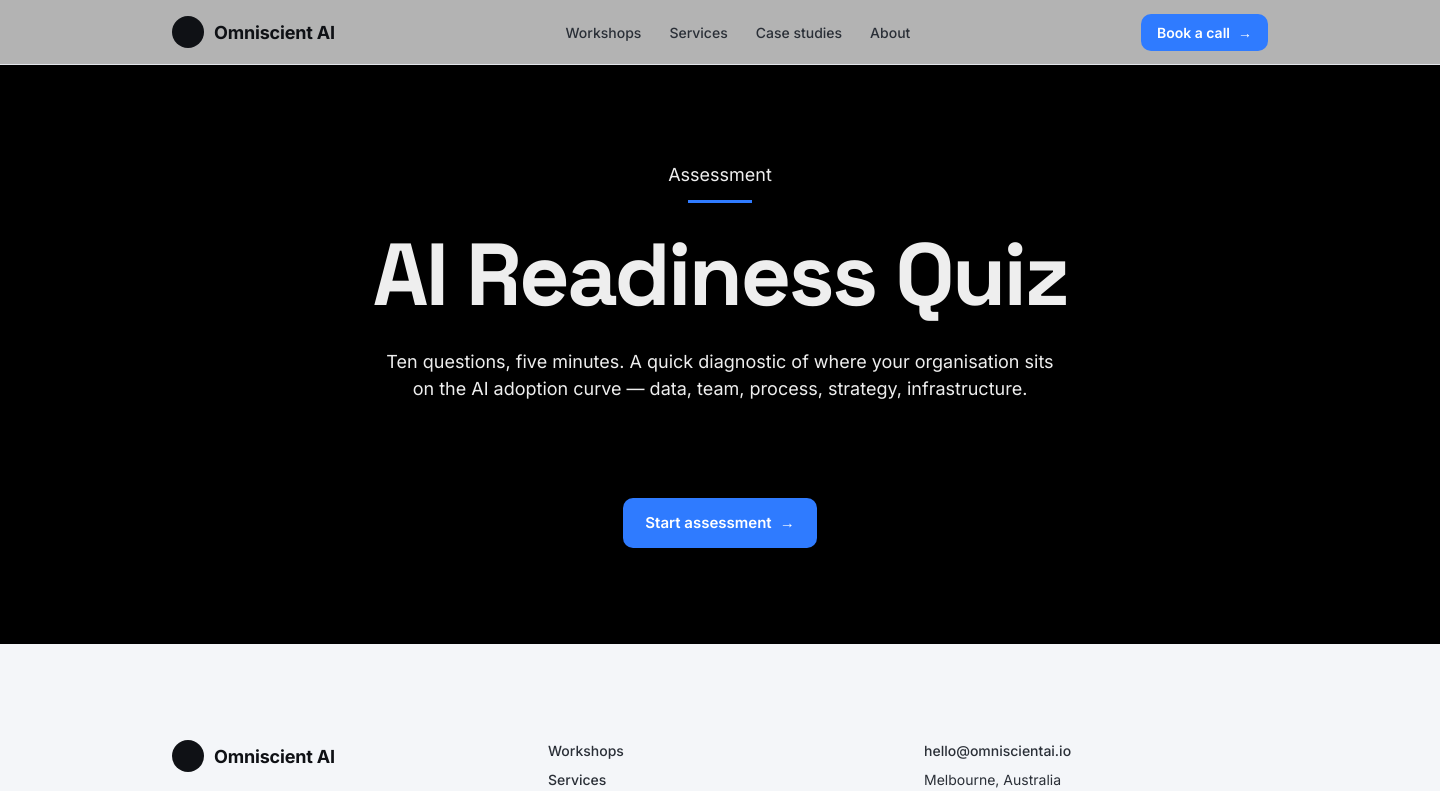
it: AIReadinessQuiz page › Back on question > 1 returns to the previous question
Click the button "Start assessment →". click: (720, 523)
box: [623,498,817,548]
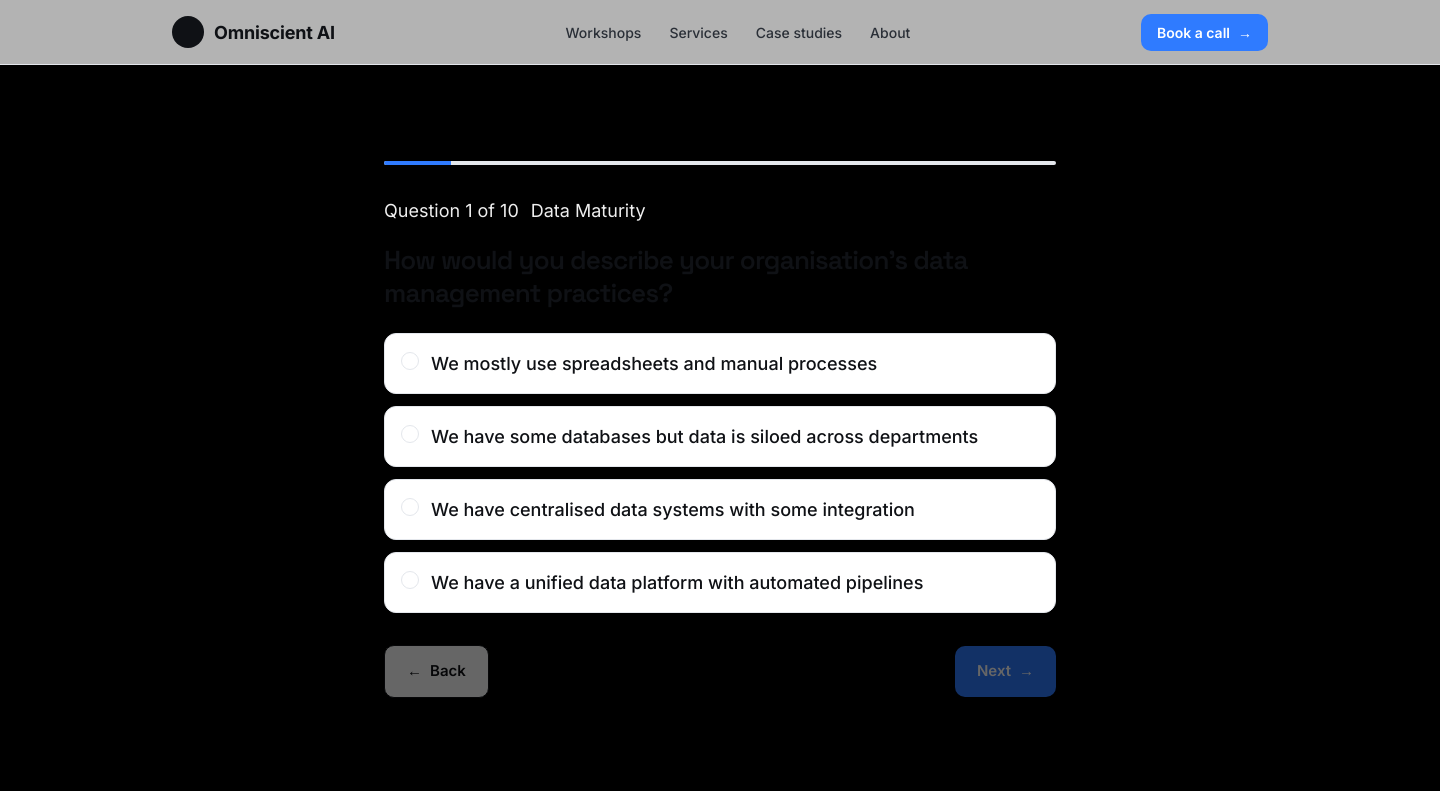
Click the radio button labelled "We mostly use spreadsheets and manual processes". click: (720, 364)
box: [384,333,1056,394]
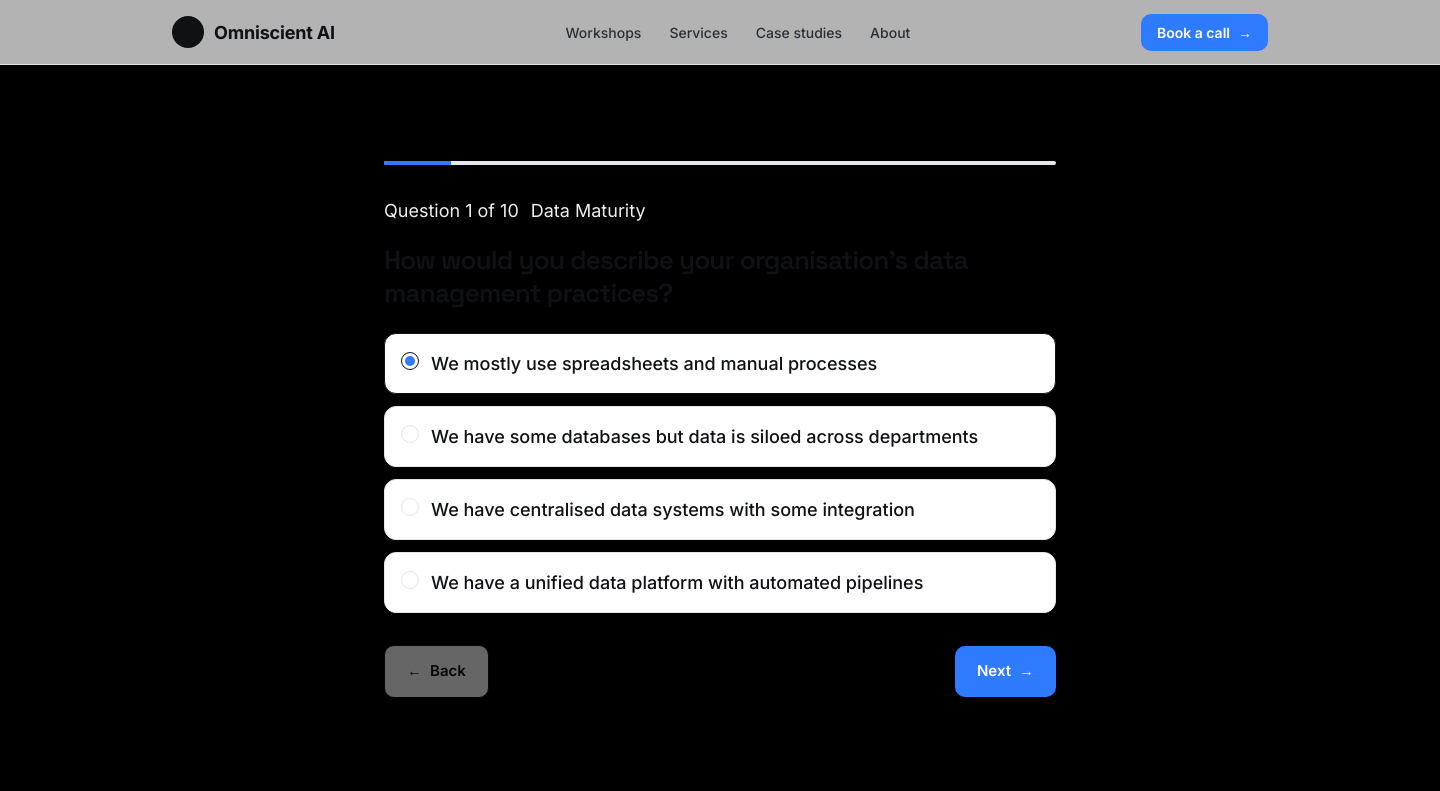
Click the button with test id "next-button". click: (1006, 671)
box: [955,646,1056,696]
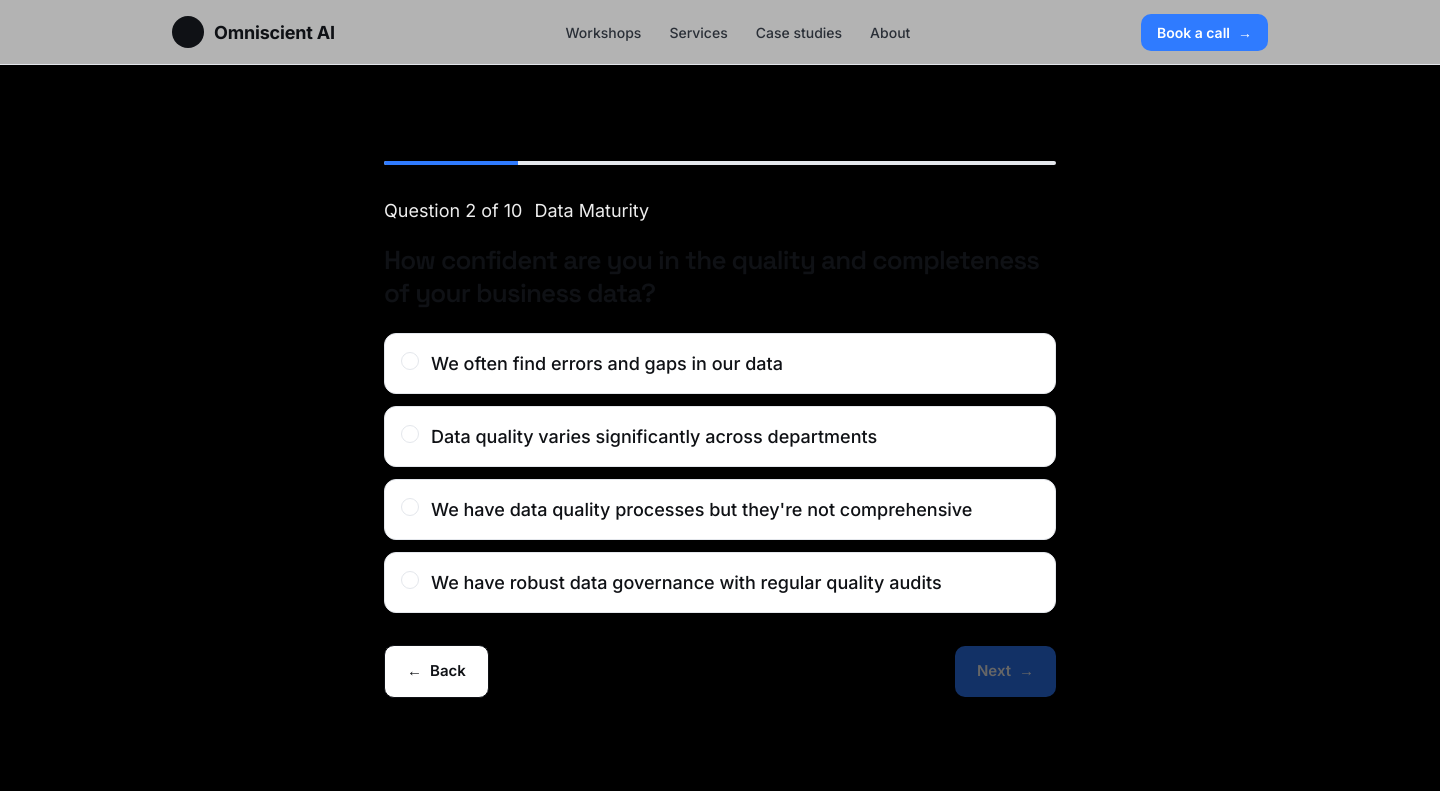
Result: the text "Question 2 of 10" is shown at [384,197,522,224]
Click the button with test id "back-button". click: (436, 671)
box: [384,645,489,698]
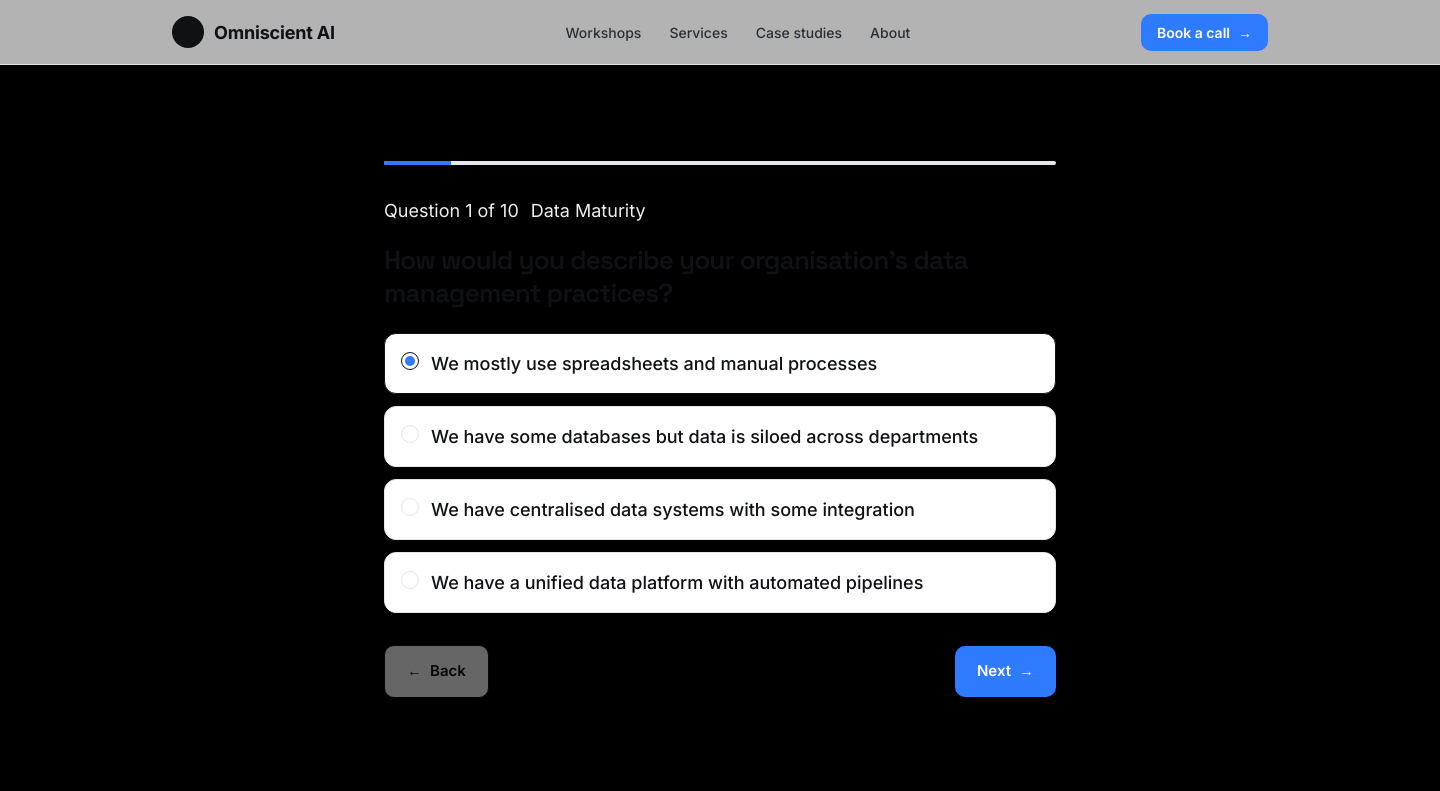
Result: the text "Question 1 of 10" is shown at [384,197,519,224]
